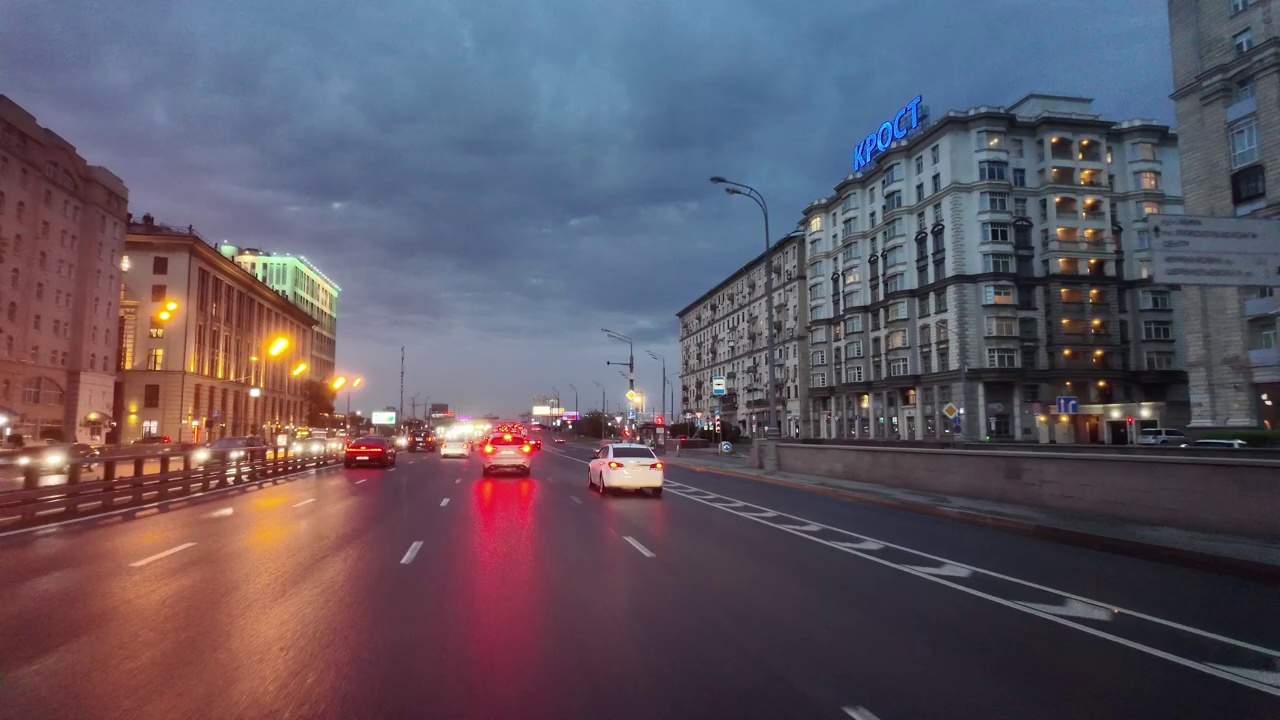acesa: (261, 332, 294, 361), (330, 372, 364, 394)
apagada: (705, 170, 740, 204)
